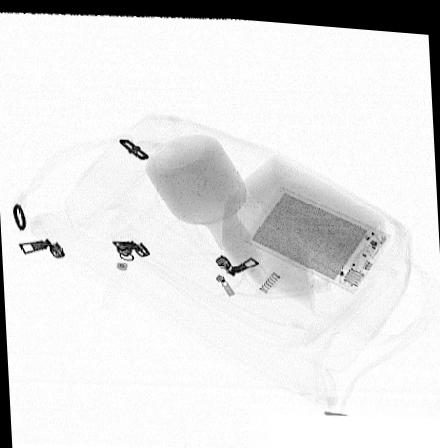Powerbank: (242, 182, 391, 288)
